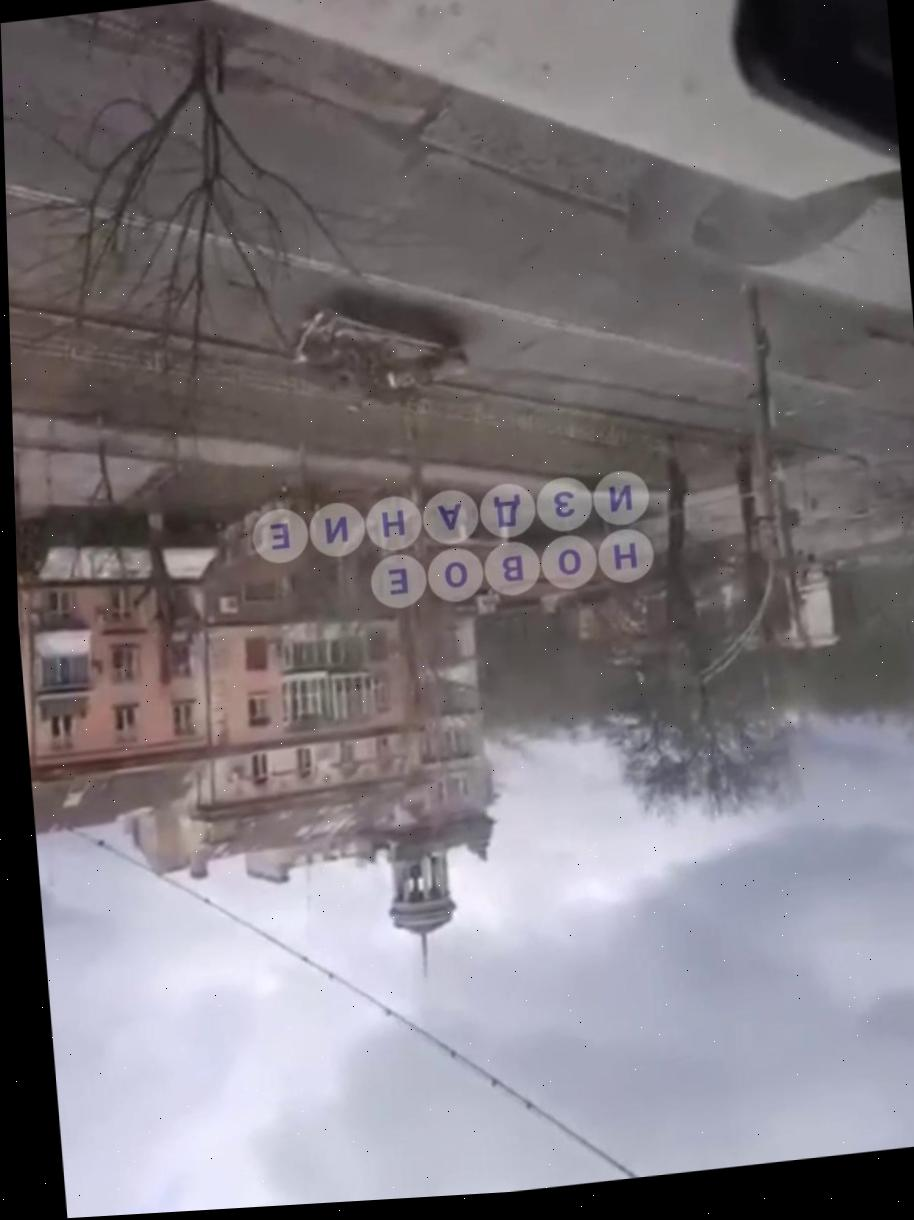tank: (279, 265, 478, 437)
